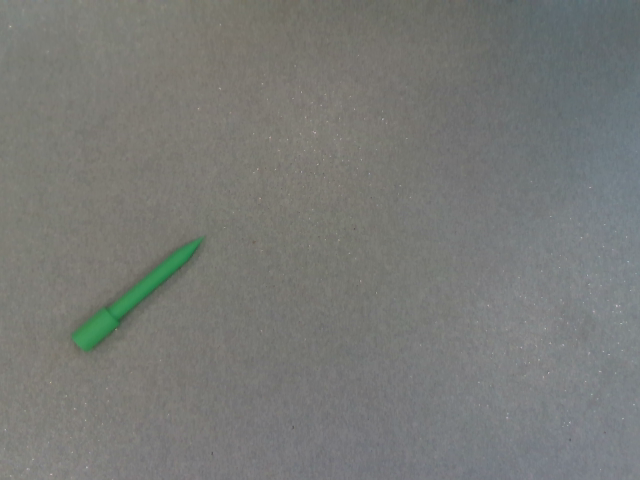Probe: (62, 229, 211, 357)
